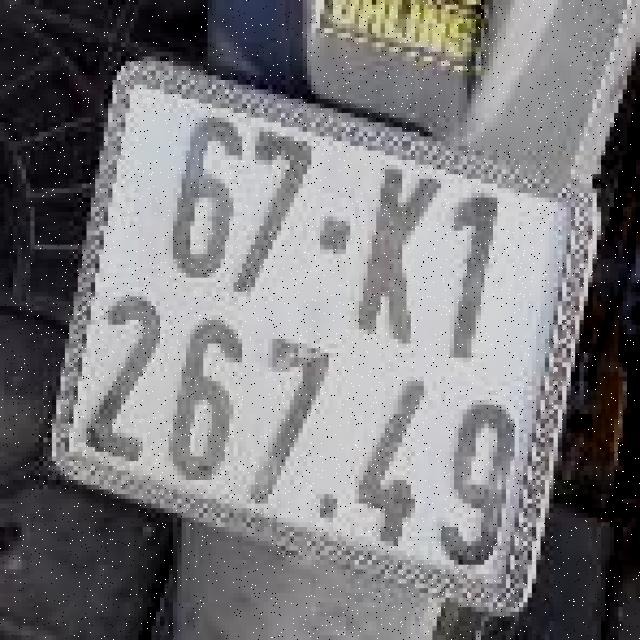1: (437, 176, 510, 384)
2: (76, 282, 162, 470)
4: (352, 379, 430, 548)
6: (169, 313, 242, 496), (164, 99, 233, 292)
7: (248, 325, 326, 522), (236, 118, 314, 301)
9: (432, 396, 528, 584)
K: (350, 150, 441, 358)
